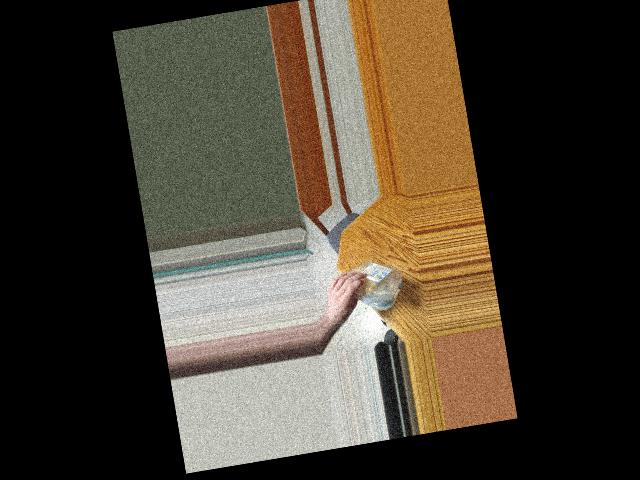cheese: (335, 252, 408, 315)
